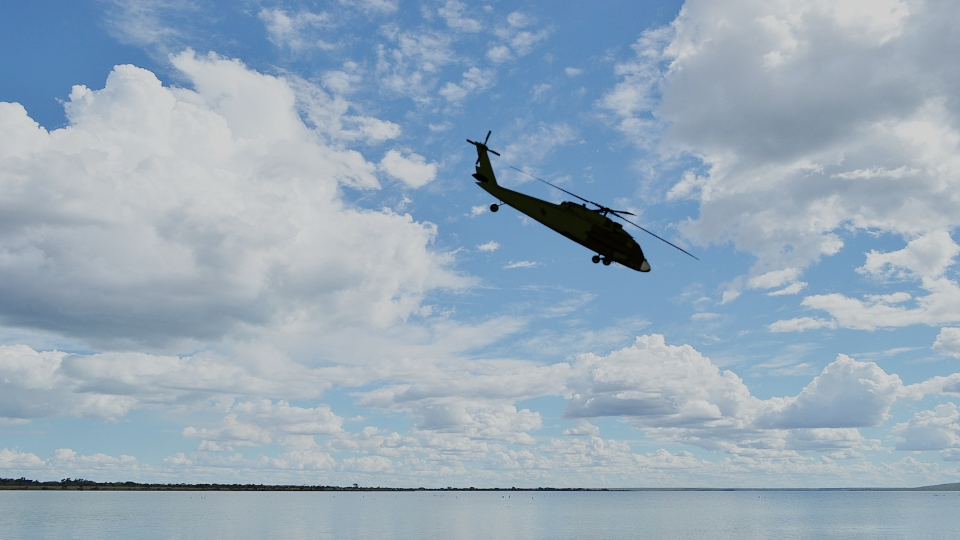heli: (465, 130, 693, 272)
